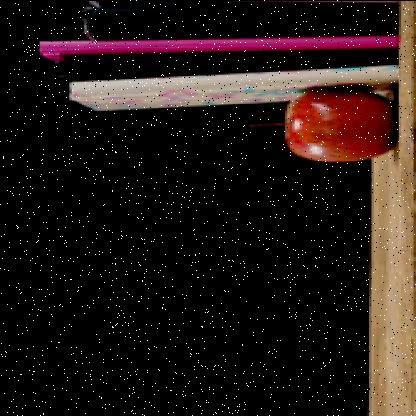apple: (290, 94, 394, 162)
